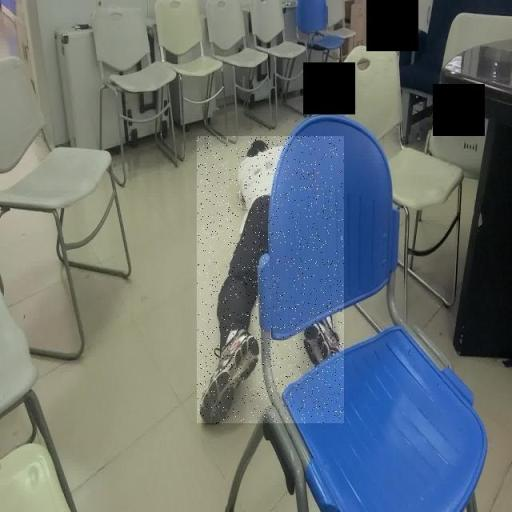Fall: (197, 136, 344, 423)
